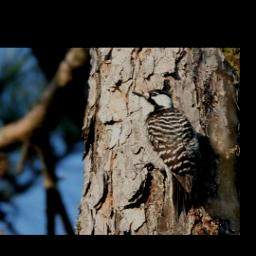Woodpecker: (131, 89, 200, 222)
